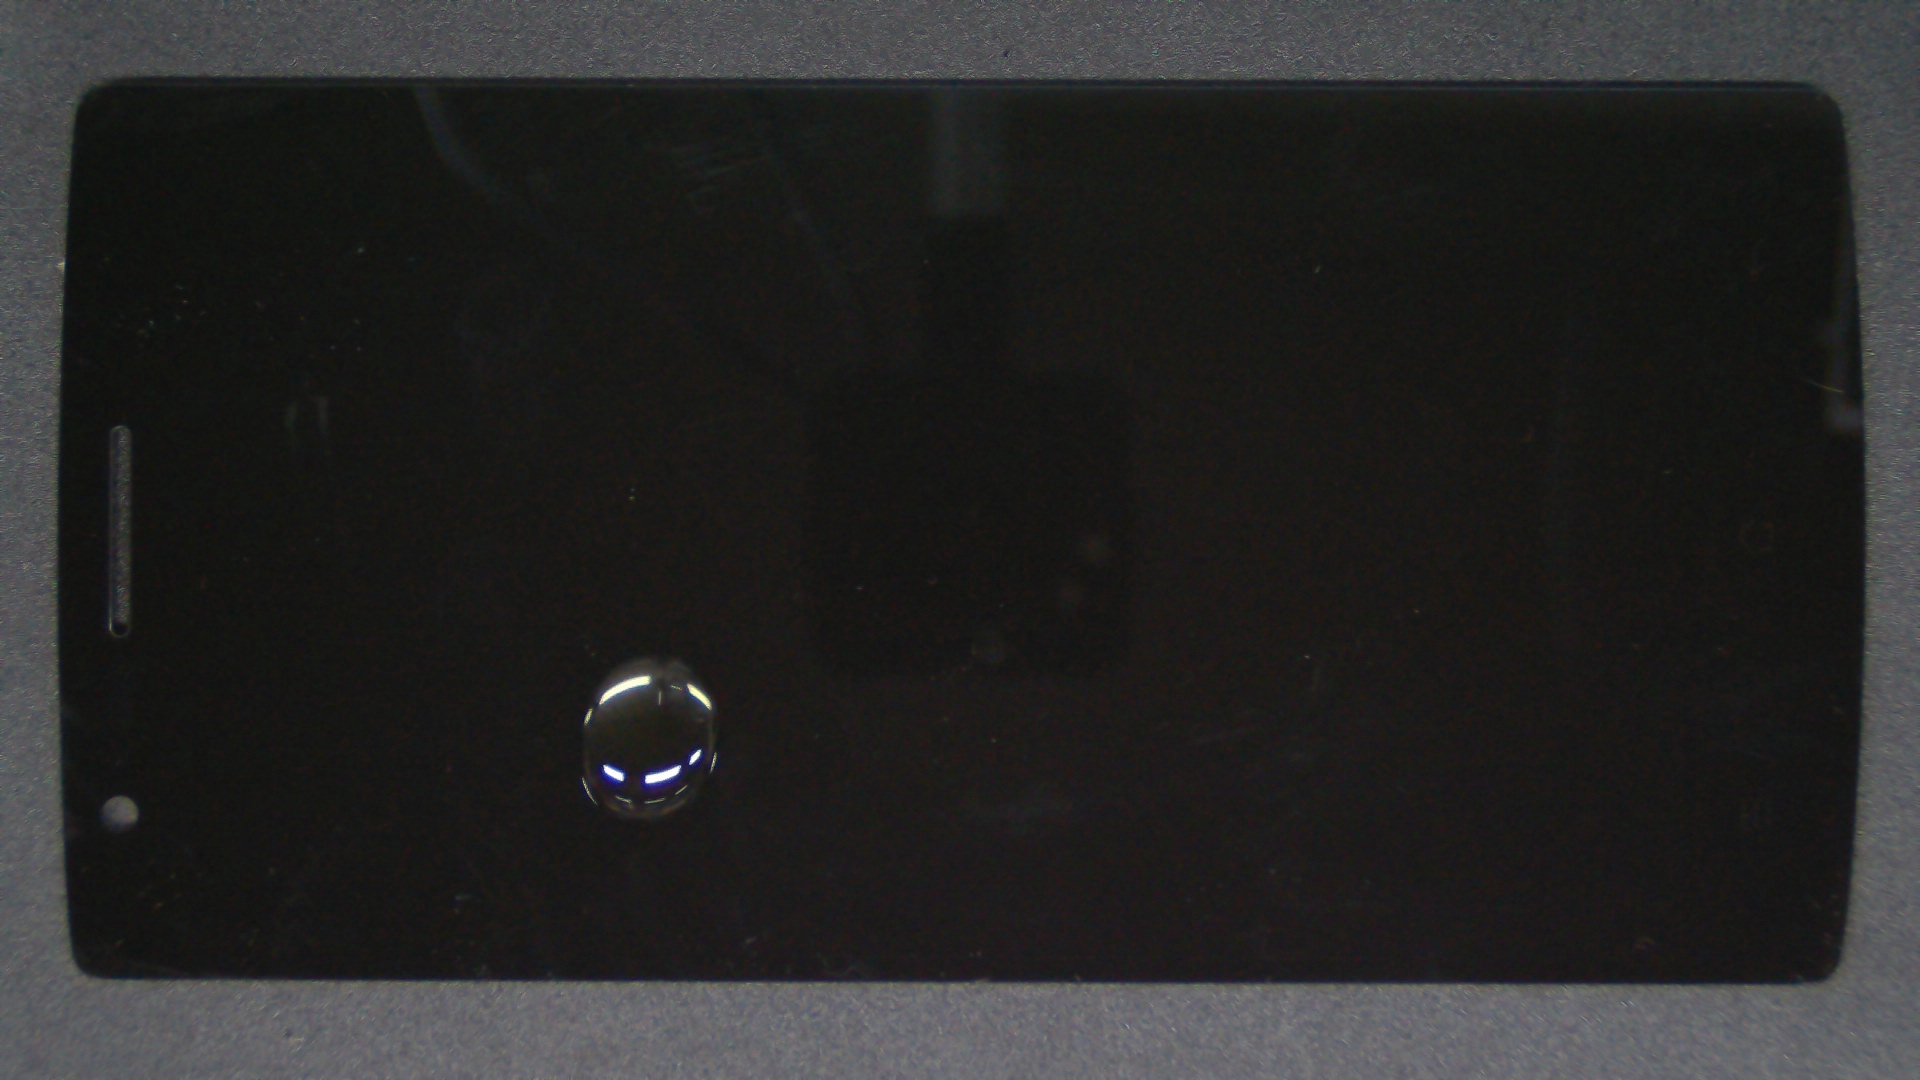defect: (582, 655, 720, 820)
